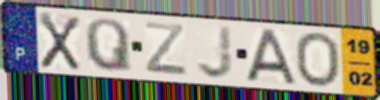A: (244, 27, 298, 86)
J: (195, 25, 236, 81)
O: (293, 30, 342, 89)
Q: (82, 16, 134, 75)
X: (37, 10, 82, 73)
Z: (142, 20, 190, 78)
